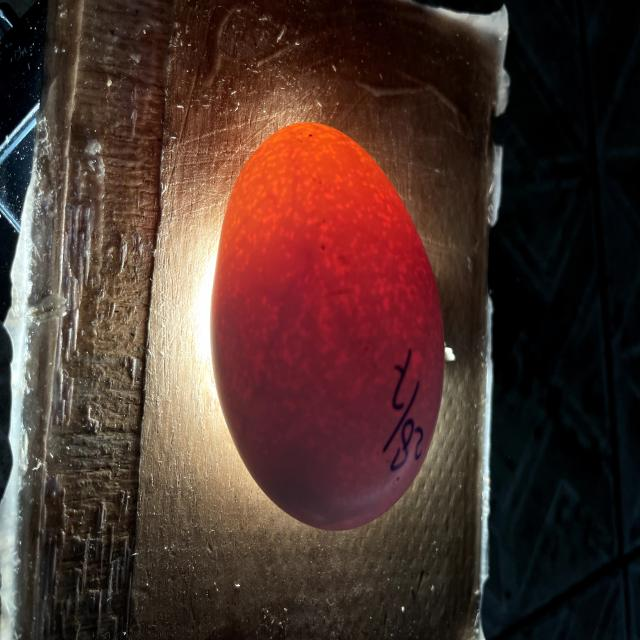fertile: (211, 122, 445, 530)
